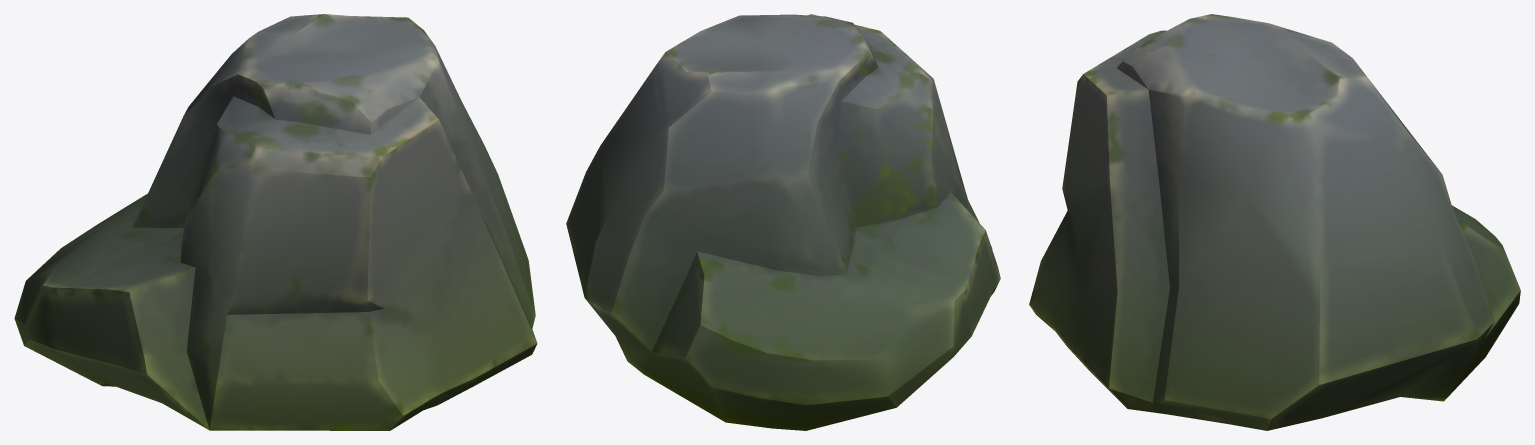
File: Rock_Medium_1.glb
3 renders of one model, left to right at view 1: azimuth 30°, elevation 25°; view 2: azimuth 150°, elevation 25°; view 3: azimuth 270°, elevation 25°, orthographic. The views are drawn at different scales.
Visible parts, largest first — view 1: Rock_Medium_1; view 2: Rock_Medium_1; view 3: Rock_Medium_1.
Boxes of the visible parts, box(x1,y1,x2,y2) form: Rock_Medium_1: box(14, 14, 537, 430); Rock_Medium_1: box(566, 14, 1000, 430); Rock_Medium_1: box(1029, 14, 1520, 430).
Size of the model in its own units: 3.23 by 2.26 by 2.99.
Materials: 1 (1 with a texture image).
